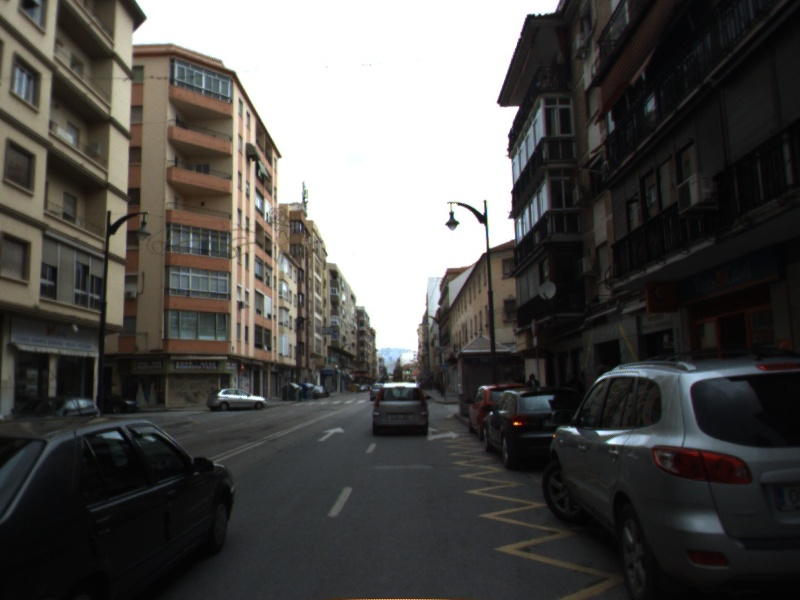STRAIGHT: (315, 424, 347, 443)
STRAIGHT_RIGHT: (426, 425, 462, 442)
